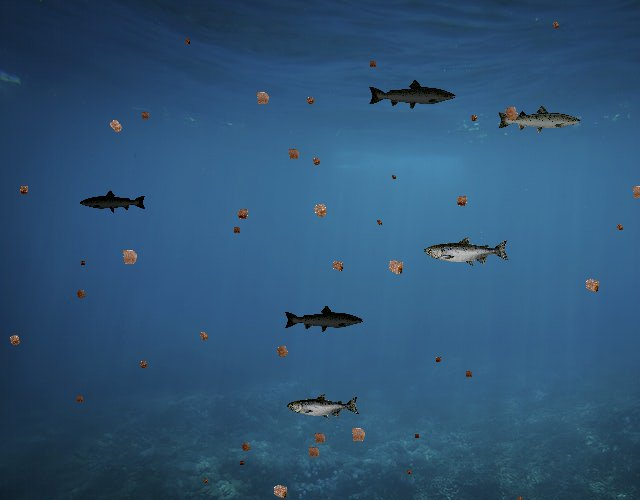Fish: (368, 79, 458, 111), (496, 104, 582, 135), (424, 236, 510, 267), (283, 304, 364, 333), (287, 394, 360, 420), (80, 189, 148, 214), (502, 110, 549, 127)
Pellet: (114, 242, 144, 272), (249, 85, 276, 112), (3, 329, 26, 351), (232, 203, 254, 225), (384, 257, 402, 275), (366, 57, 380, 71), (432, 353, 445, 366), (181, 36, 194, 49), (200, 476, 210, 486)
